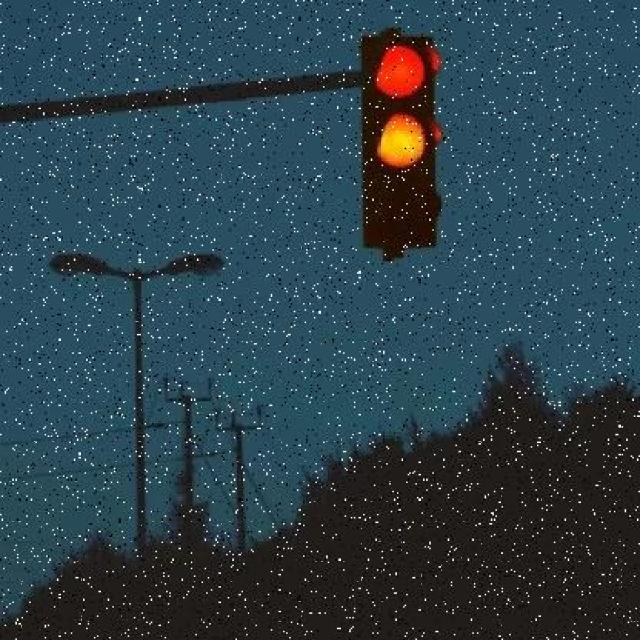red-yellow-light: (317, 8, 478, 260)
